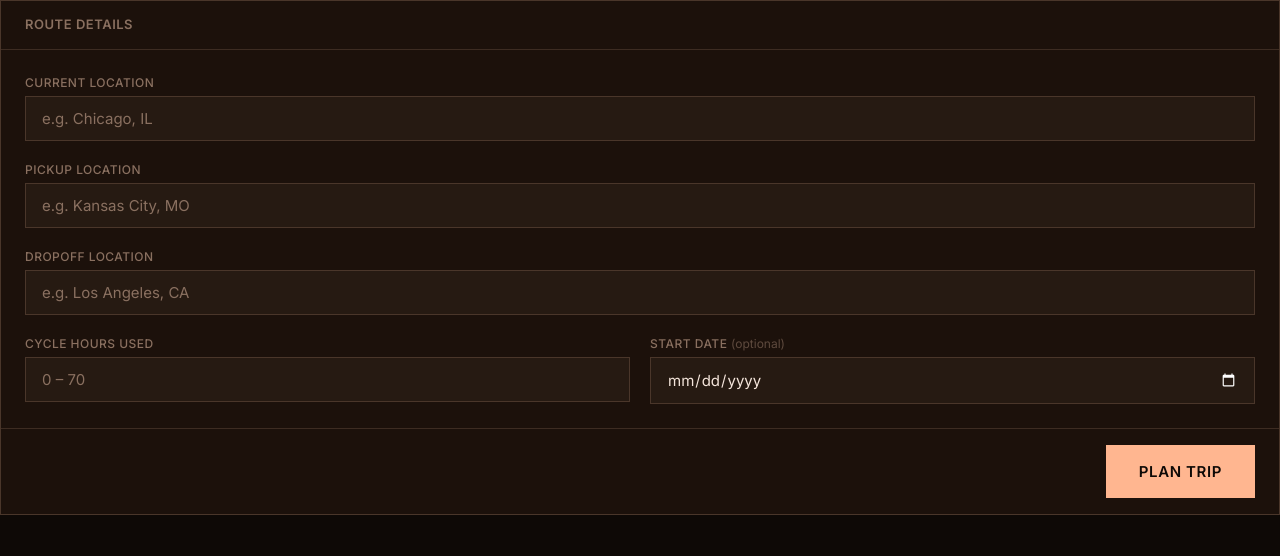
Test: TripForm › shows error when cycle hours are negative
This screenshot has width=1280, height=556.
Type "-5" into the number field labelled "Cycle Hours Used" at coordinates (328, 379), box [25, 357, 630, 402]
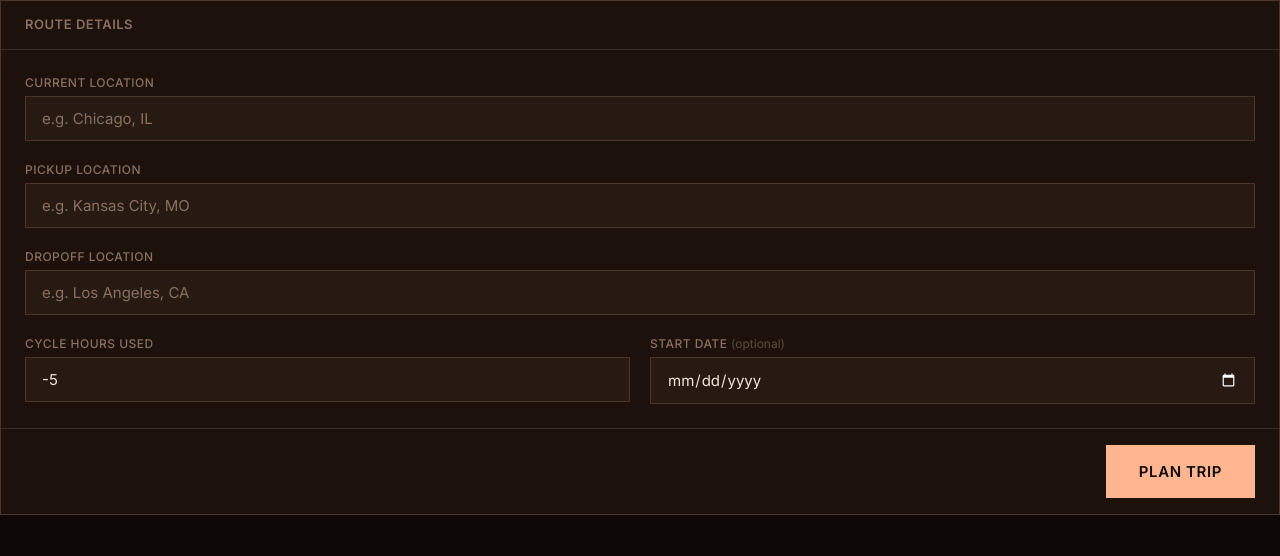
Leave the number field labelled "Cycle Hours Used", box [25, 357, 630, 402]
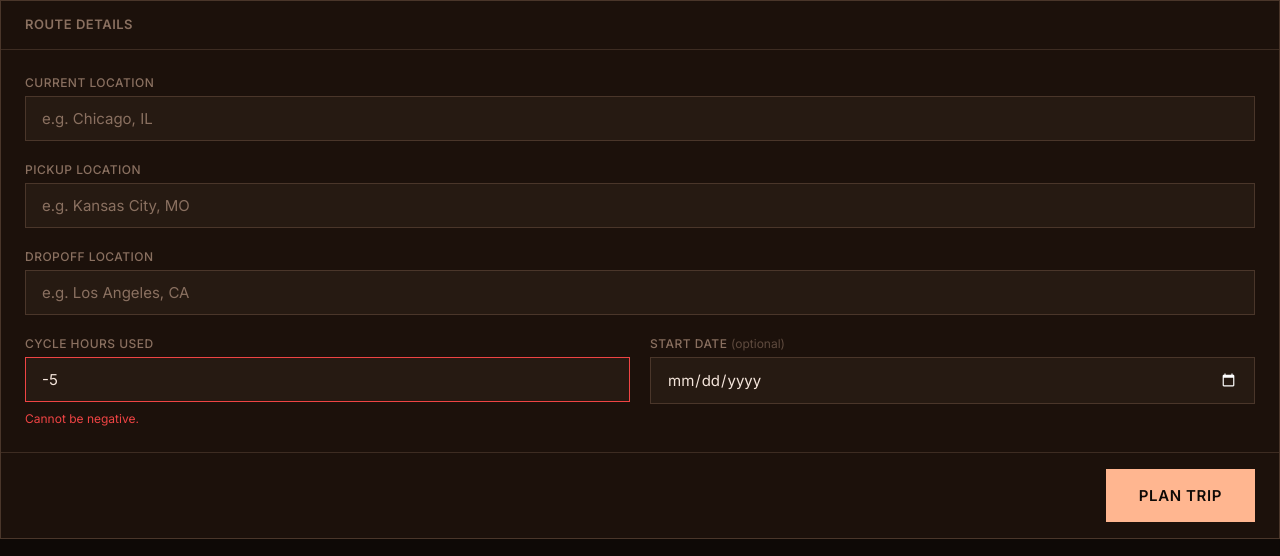
Now the text "Cannot be negative." is shown, box [25, 411, 139, 426]
